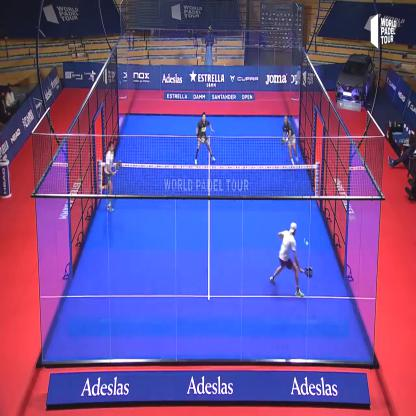ball: (304, 238, 310, 250)
